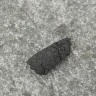Dog: (27, 38, 72, 74)
